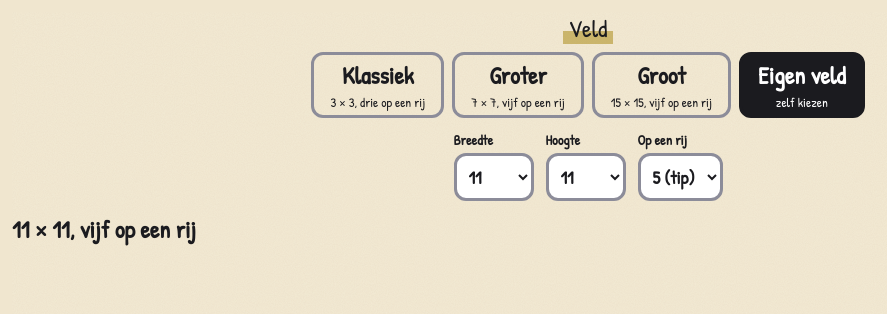
Scenario: FieldPicker › keeps a row somebody chose, says what the tip is and takes it on request
Click the button "Eigen veld zelf kiezen".
click(802, 85)  # box [739,52,865,118]
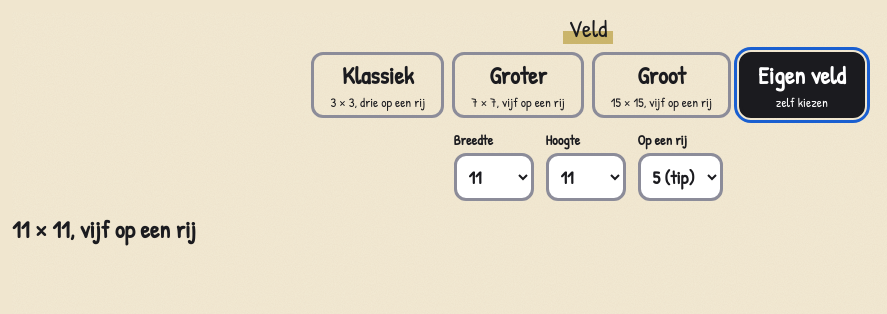
Select "9" in the dropdown labelled "Op een rij" at (680, 177), box [638,153,722,201]
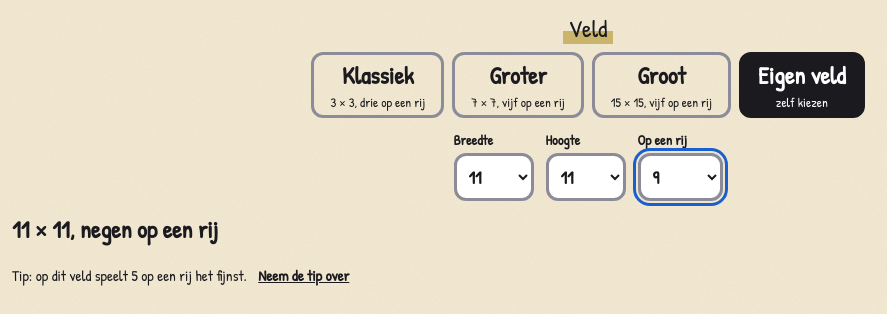
Result: the text "Tip: op dit veld speelt 5 op een rij het fijnst" is shown at [12,264,247,286]
Select "13" in the dropdown labelled "Breedte" at (494, 177), box [454,153,534,201]
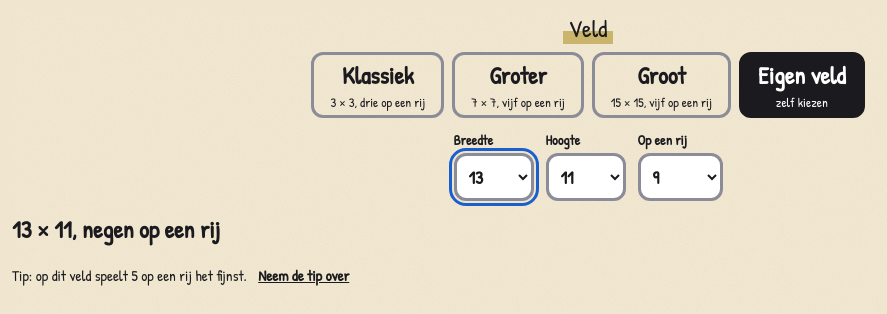
Click the button "Neem de tip over".
click(304, 275)  # box [250,253,357,297]
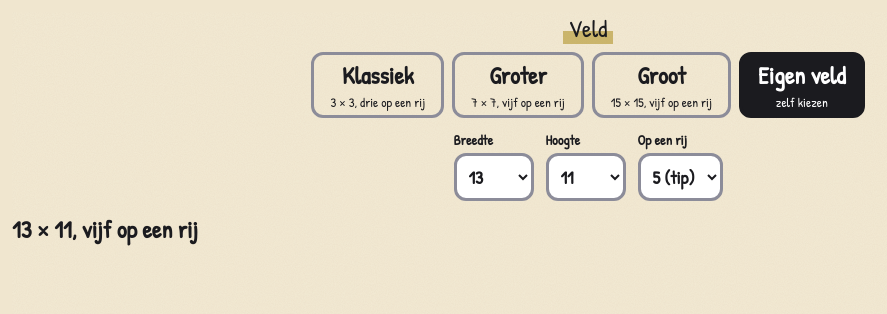
Result: the text "Tip: op dit veld" is gone
